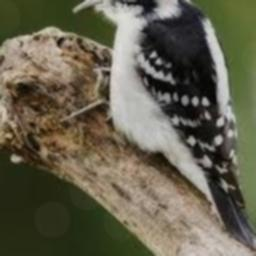Woodpecker: (58, 0, 256, 251)
